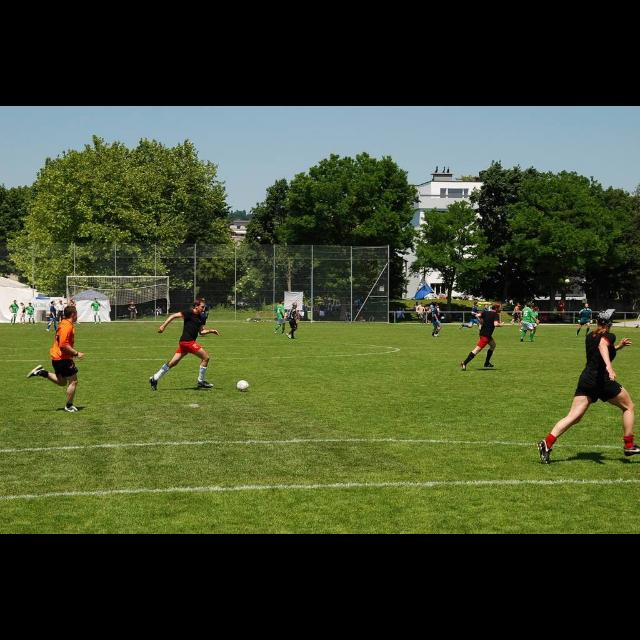Football: (236, 380, 248, 390)
